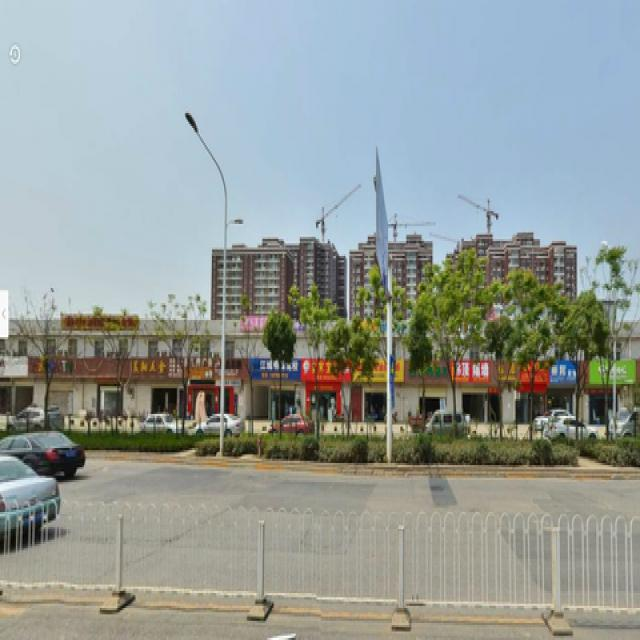koel: (600, 252, 629, 420), (429, 273, 467, 390), (166, 303, 198, 431), (307, 290, 328, 427), (369, 284, 384, 337)
